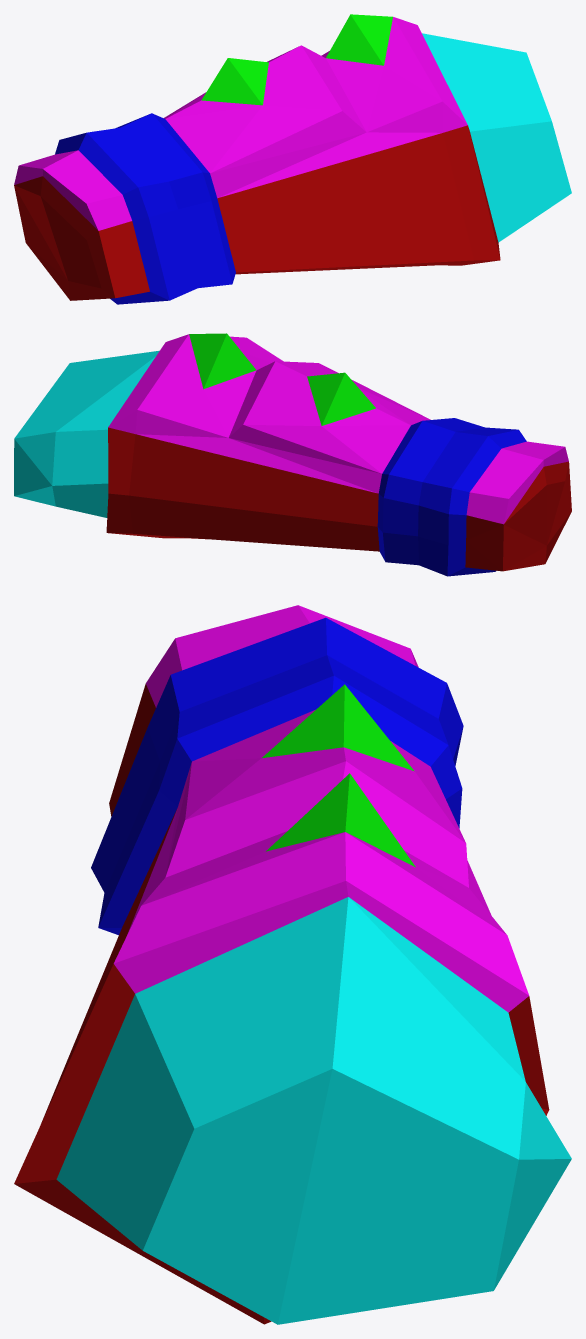
File: Chr_ArmLowerRight_Male_Static_01.fbx
3 renders of one model, top to bottom at view 1: azimuth 30°, elevation 25°; view 2: azimuth 150°, elevation 25°; view 3: azimuth 270°, elevation 25°, orthographic. The views are drawn at different scales.
Parts seen in each view (by area): view 1: Chr_ArmLowerRight_Male_01; view 2: Chr_ArmLowerRight_Male_01; view 3: Chr_ArmLowerRight_Male_01.
Part boxes in pixels (<box>): Chr_ArmLowerRight_Male_01: <box>14,14,571,304</box>; Chr_ArmLowerRight_Male_01: <box>14,333,571,576</box>; Chr_ArmLowerRight_Male_01: <box>14,605,571,1324</box>.
Size of the model in its own units: 28.96 by 13.85 by 14.84.
